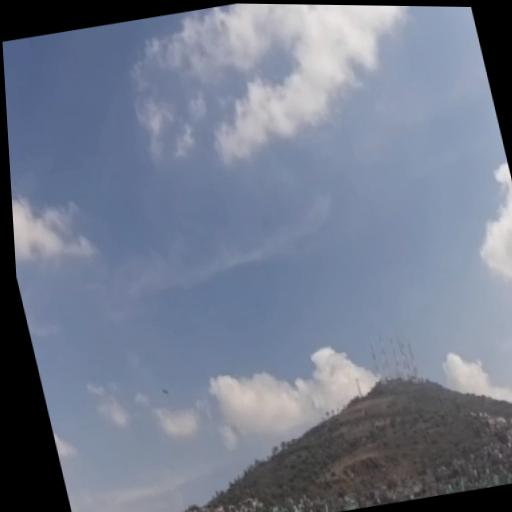drones: (157, 382, 171, 403)
